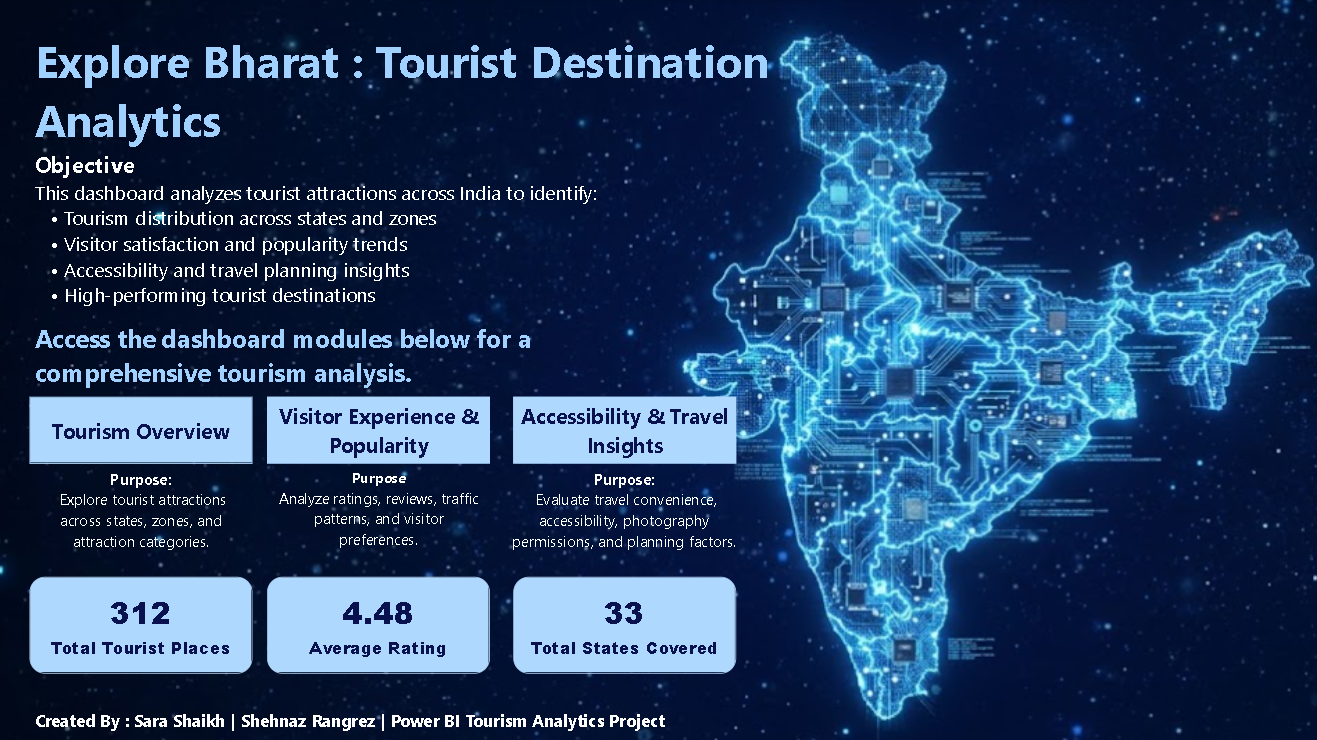

The dashboard page shown, as its layout file describes it:
{"tool":"powerbi","page":{"name":"Introduction","canvas":[1280,720],"ordinal":0},"visuals":[{"type":"textbox","box":[31.4,26.7,720.9,344.2],"z":2000},{"type":"actionButton","title":"Tourism Overview","box":[31.1,384.4,215.6,64.4],"z":3000},{"type":"actionButton","title":"Tourism Overview","box":[261.1,384.4,215.6,64.4],"z":4000},{"type":"actionButton","title":"Tourism Overview","box":[497.8,384.4,215.6,64.4],"z":5000},{"type":"textbox","box":[31.1,448.9,215.6,91.1],"z":6000},{"type":"textbox","box":[261.1,448.9,215.6,91.1],"z":7000},{"type":"textbox","box":[476.7,448.9,257.8,91.1],"z":8000},{"type":"textbox","box":[31.1,306.7,626.7,77.8],"z":9000},{"type":"cardVisual","fields":{"Data":["Cleaned Dataset.Total Tourist Places"]},"box":[31.1,558.9,215.6,93.3],"z":10000},{"type":"cardVisual","fields":{"Data":["Cleaned Dataset.Average Rating"]},"box":[261.1,558.9,215.6,93.3],"z":11000},{"type":"cardVisual","fields":{"Data":["Cleaned Dataset.Total States Covered"]},"box":[497.8,558.9,215.6,93.3],"z":12000},{"type":"textbox","box":[31.1,680,762.2,40],"z":13000}]}

Visuals, with their boxes in screenshot pixels (x1, y1, x2, y2), scaled from the page's 1280x720 canvas onto the 1317x740 screenshot:
textbox: l=32, t=27, r=774, b=381
"Tourism Overview" actionButton: l=32, t=395, r=254, b=461
"Tourism Overview" actionButton: l=269, t=395, r=490, b=461
"Tourism Overview" actionButton: l=512, t=395, r=734, b=461
textbox: l=32, t=461, r=254, b=555
textbox: l=269, t=461, r=490, b=555
textbox: l=490, t=461, r=756, b=555
textbox: l=32, t=315, r=677, b=395
cardVisual - Cleaned Dataset.Total Tourist Places: l=32, t=574, r=254, b=670
cardVisual - Cleaned Dataset.Average Rating: l=269, t=574, r=490, b=670
cardVisual - Cleaned Dataset.Total States Covered: l=512, t=574, r=734, b=670
textbox: l=32, t=699, r=816, b=739
